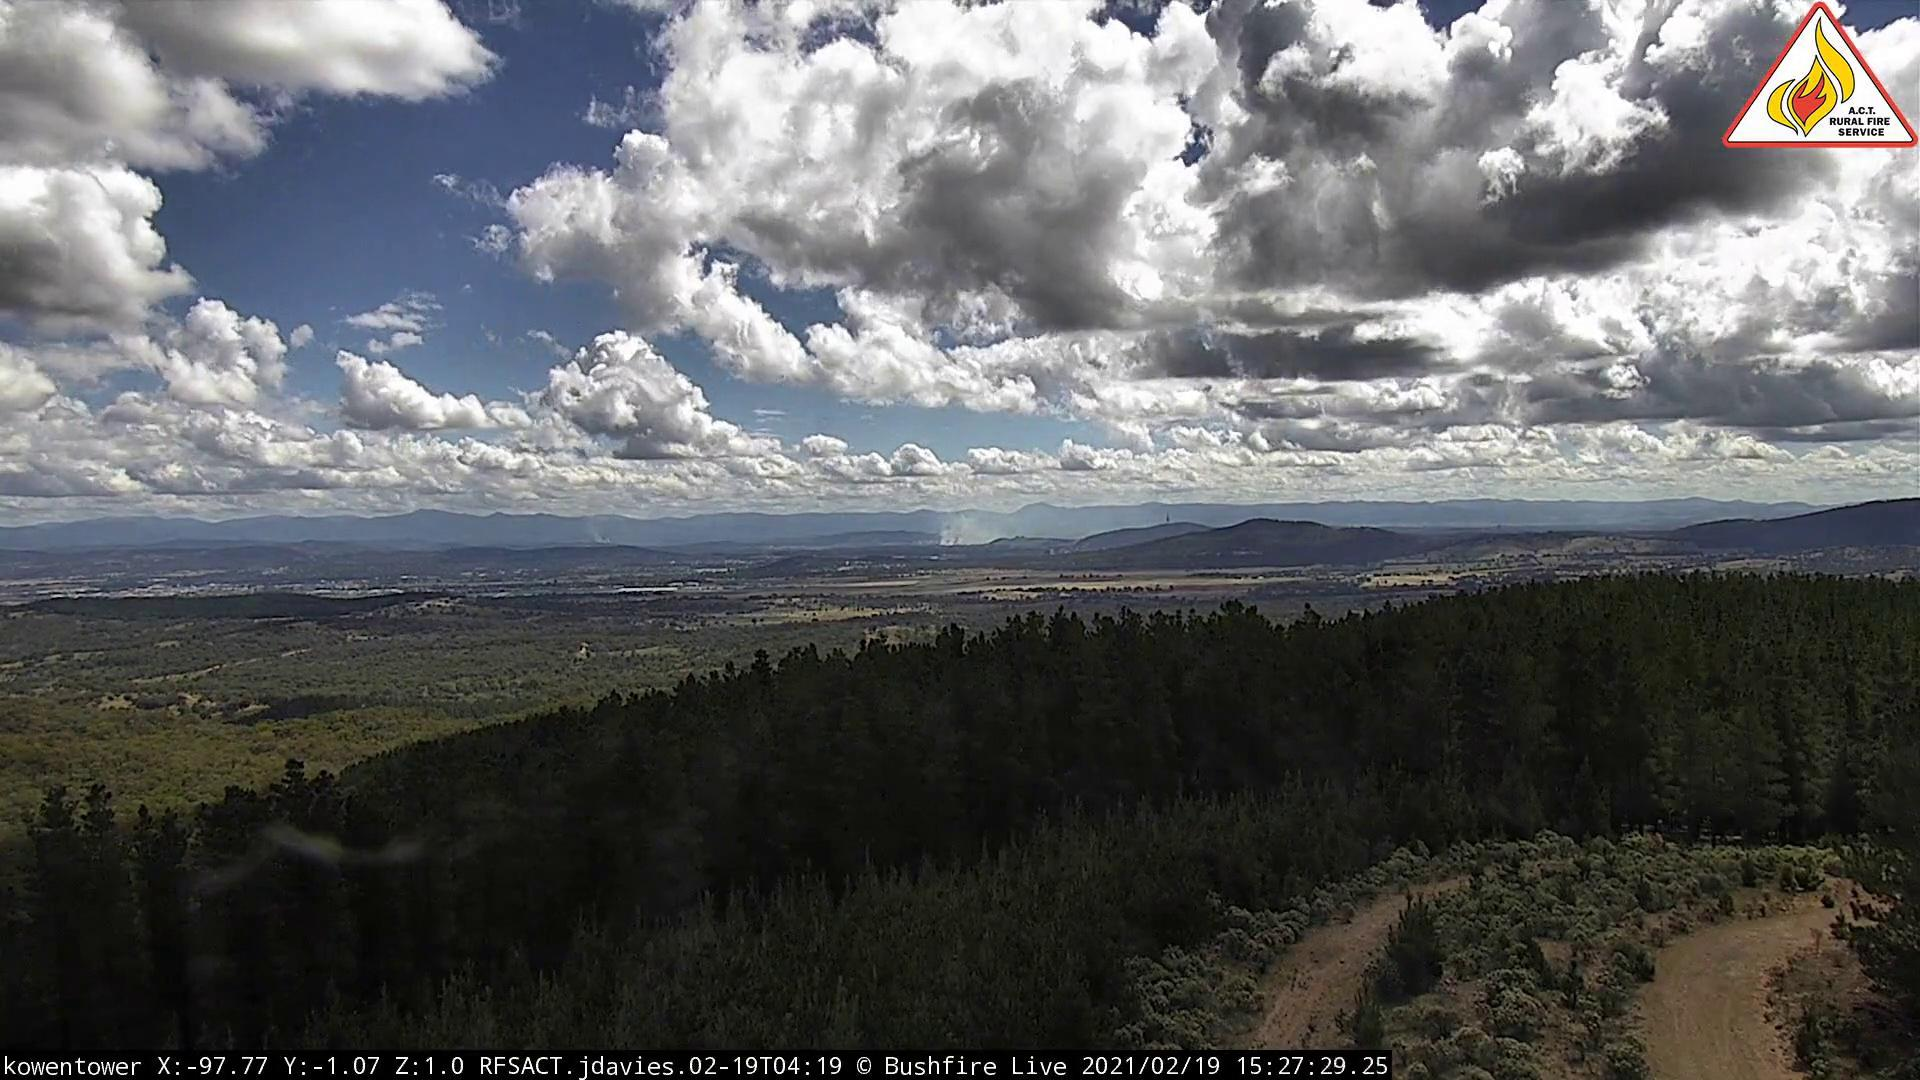Smoke: (931, 506, 1019, 551), (585, 527, 616, 551)
